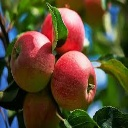apple: (22, 92, 62, 128)
